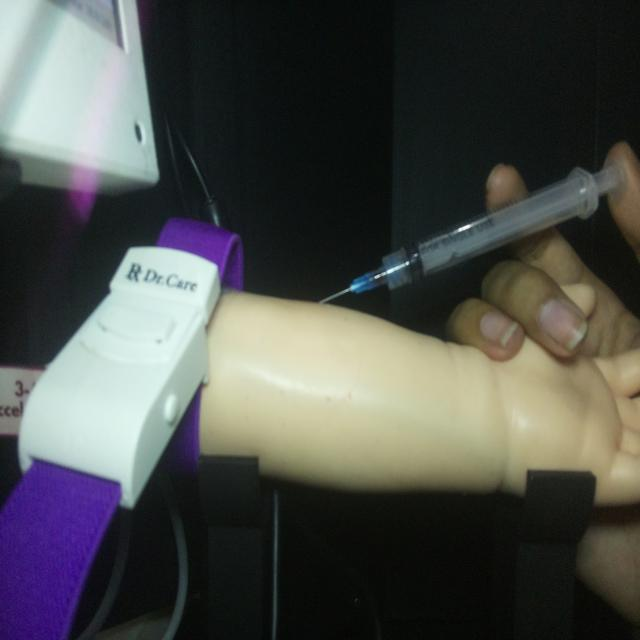16 degrees: (317, 148, 627, 307)
